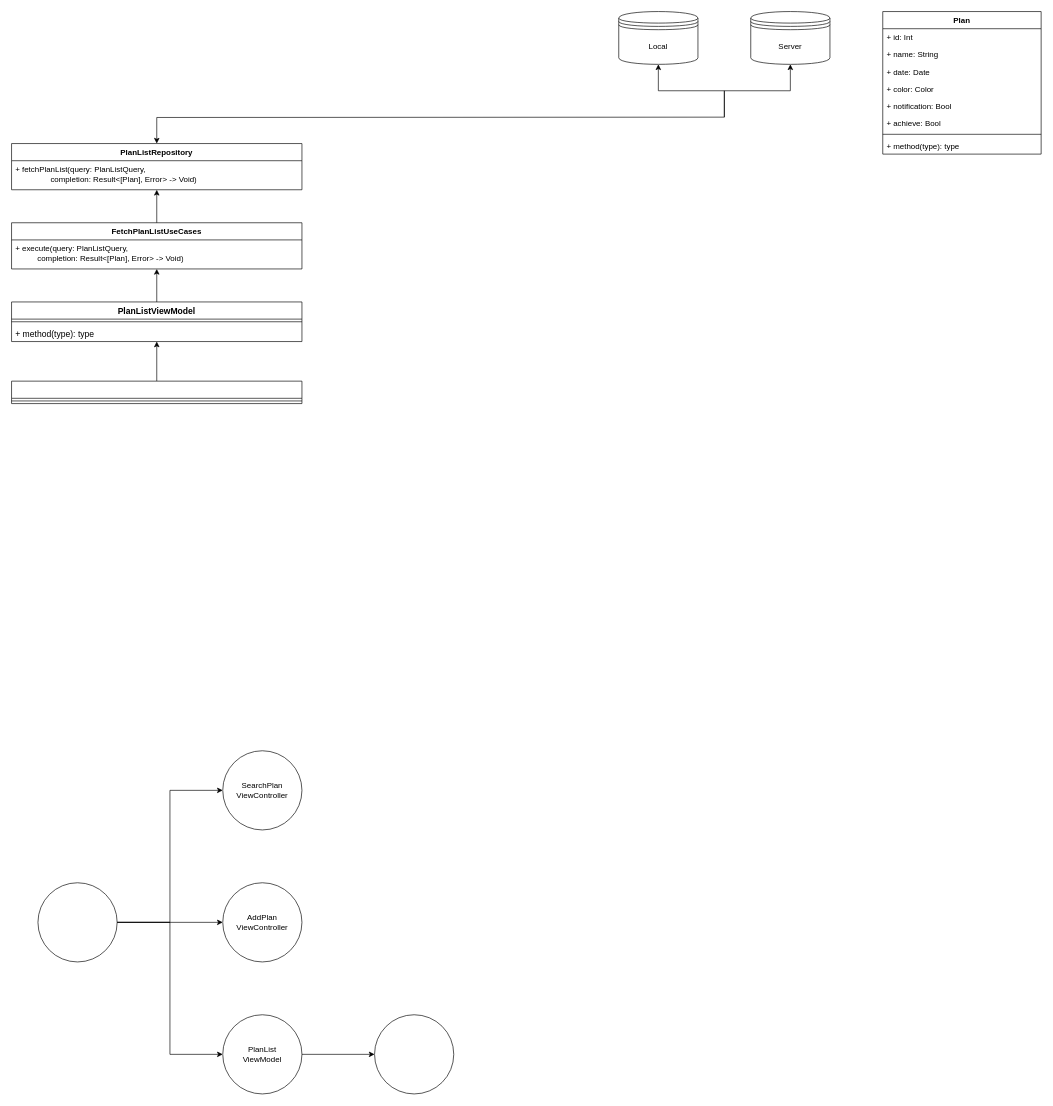
Image size: 1053x1106. Some labels were removed from this diagram. The centre of each missing label's shape, as x and y in pixels:
EditPlan ViewController: [414,1054]
PlanList ViewController: [77,922]
PlanListView: [156,392]
